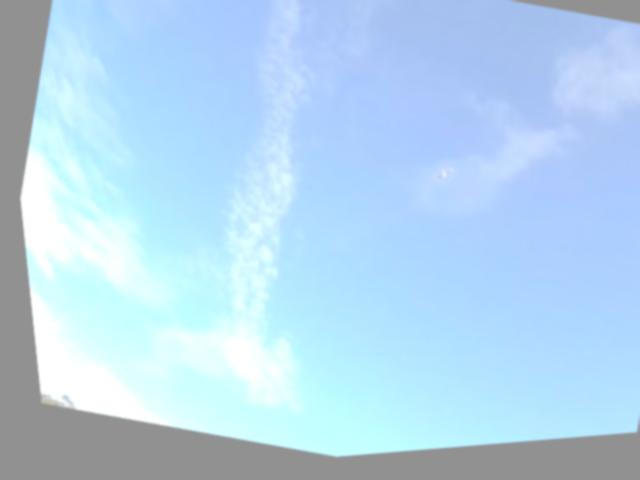uav: (423, 163, 456, 195)
